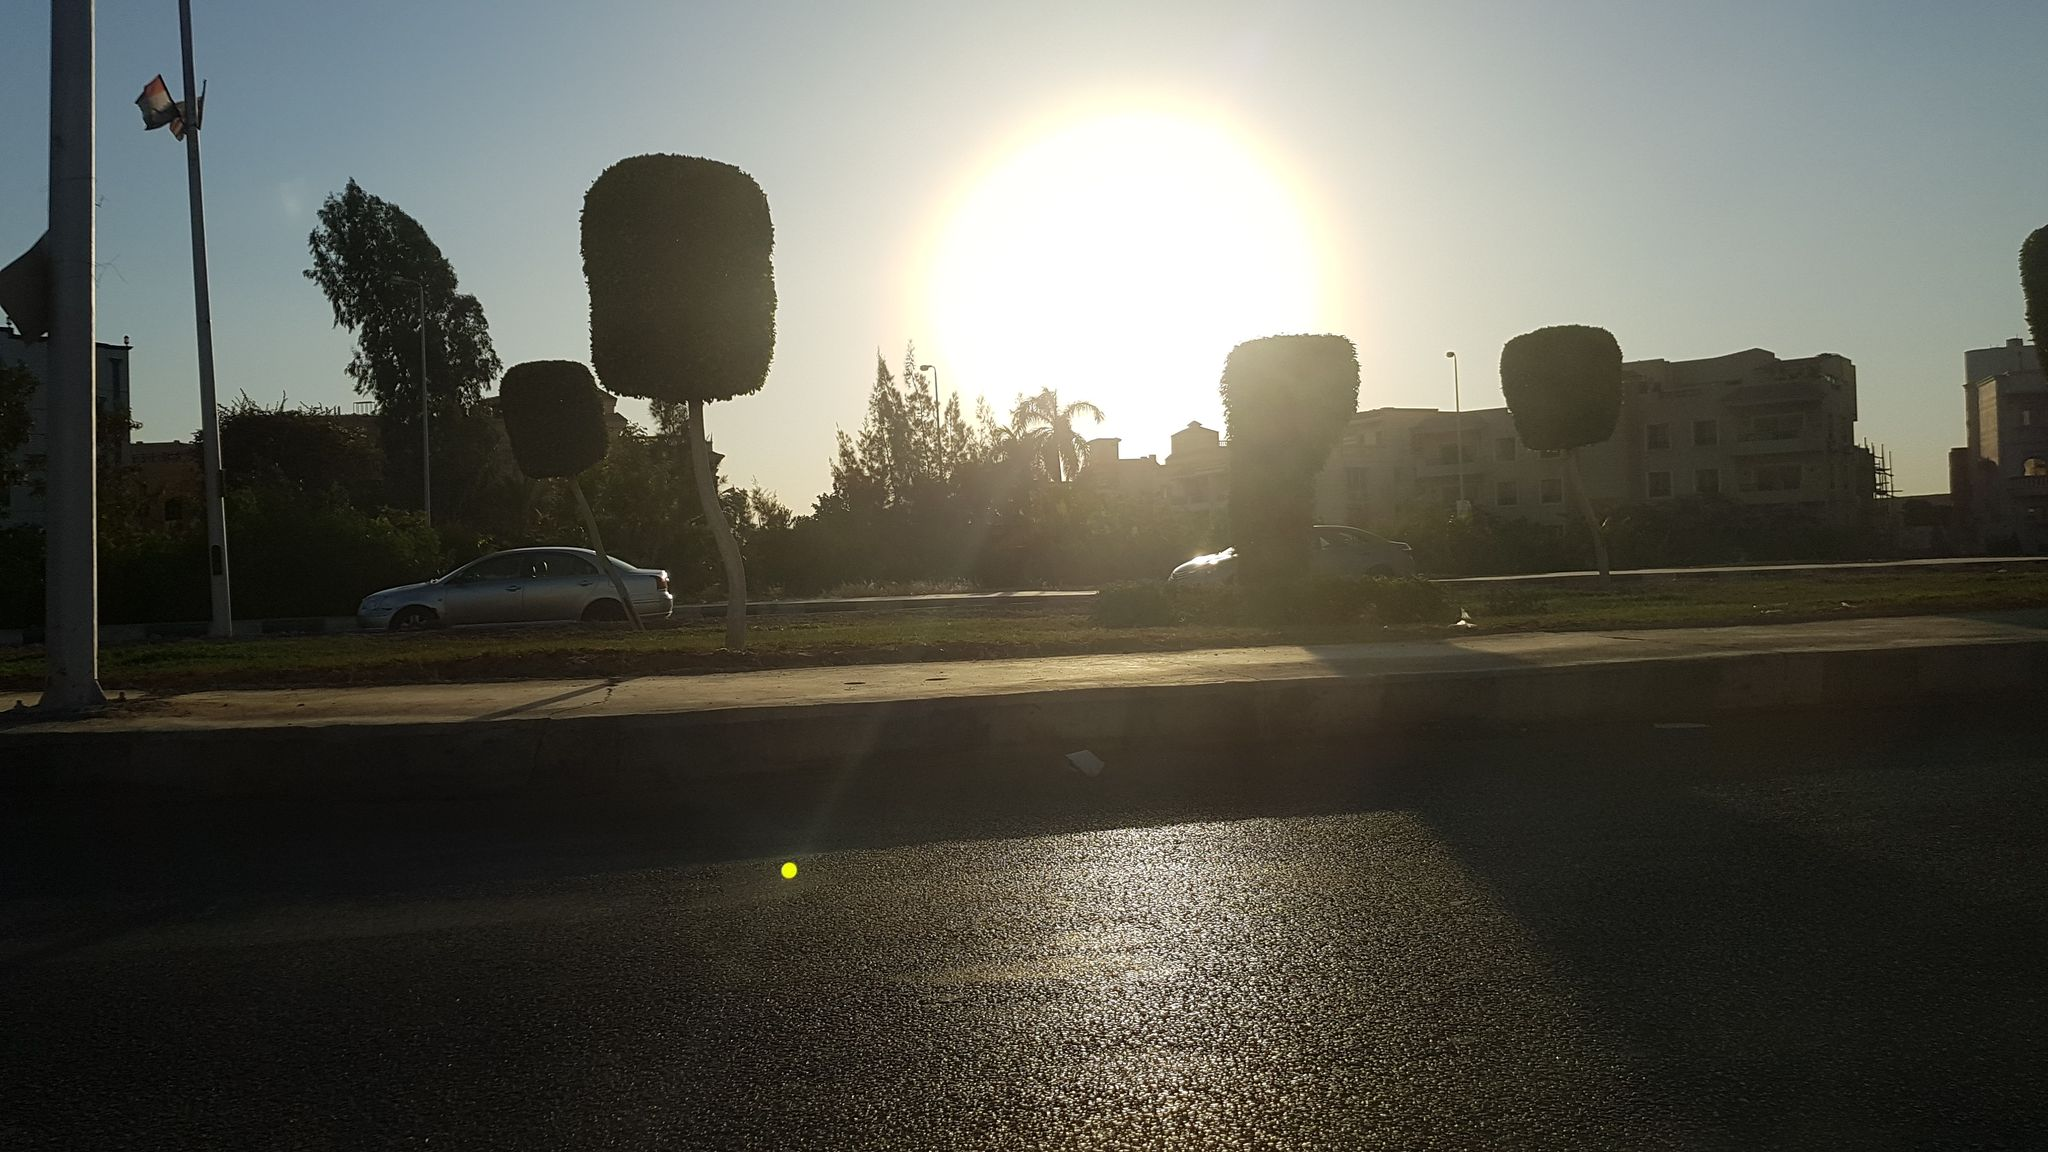car: (354, 544, 677, 625), (1163, 522, 1418, 581)
